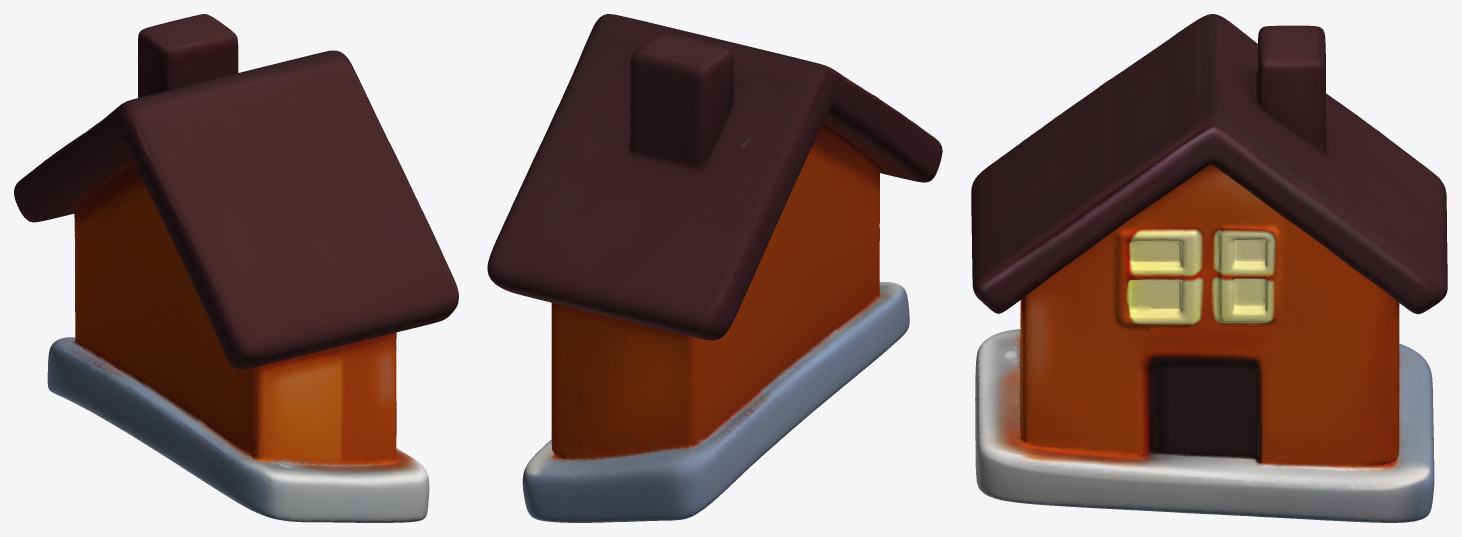
File: casa.glb
The picture shows the model from 3 angles, left to right: view 1: azimuth 30°, elevation 25°; view 2: azimuth 150°, elevation 25°; view 3: azimuth 270°, elevation 25°; orthographic projection. The views are drawn at different scales.
Parts seen in each view (by area): view 1: Casa; view 2: Casa; view 3: Casa.
Boxes of the visible parts, x1,y1,x2,y2 form: Casa: (14, 14, 458, 522); Casa: (487, 14, 942, 522); Casa: (971, 14, 1447, 522).
Bounding box in the file's own units: 0.1838 × 0.3253 × 0.3206.
1 material, 1 textured.
